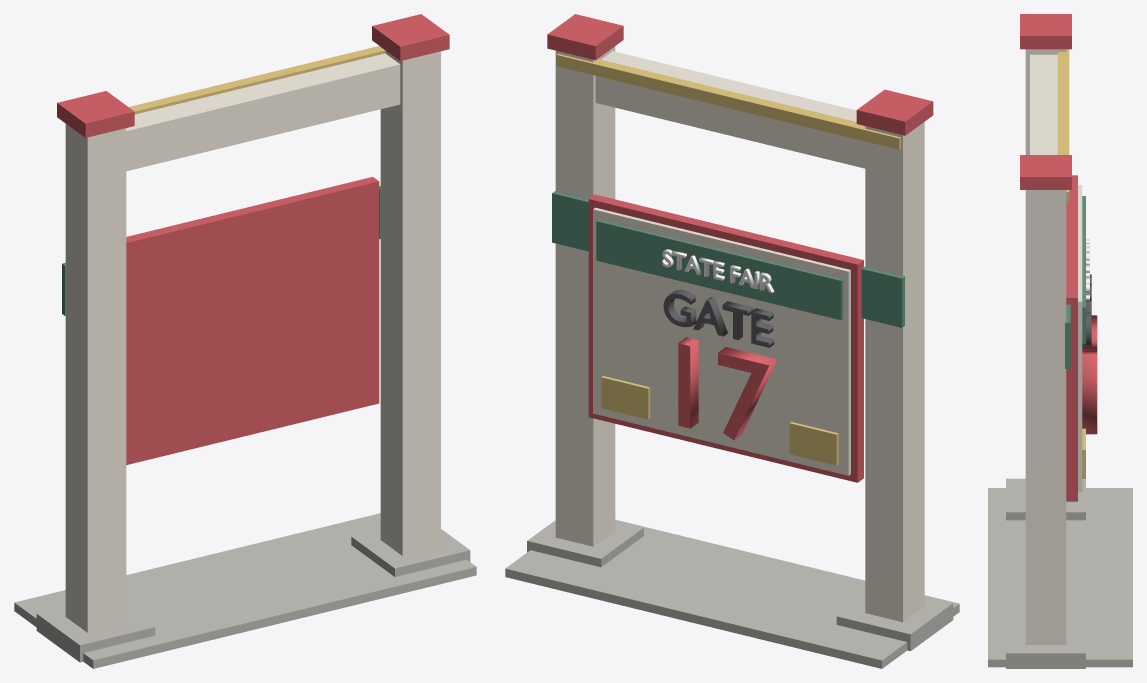
Rendered from state-fair-gate-17.glb.
The picture shows the model from 3 angles, left to right: view 1: azimuth 30°, elevation 25°; view 2: azimuth 150°, elevation 25°; view 3: azimuth 270°, elevation 25°; orthographic projection. The views are drawn at different scales.
Parts seen in each view (by area): view 1: SFG_SignBack, SFG_PostL, SFG_PostR, SFG_Pad, SFG_HeaderBeam, SFG_FootingL, SFG_FootingR, SFG_PostCapL, SFG_PostCapR, SFG_HeaderAccent; view 2: SFG_SignFace, SFG_PostL, SFG_Pad, SFG_PostR, SFG_HeaderBeam, SFG_Ribbon, SFG_SignBack, SFG_HeaderAccent, SFG_GateNumber, SFG_FootingL, SFG_GateLabel, SFG_FootingR (+7 smaller); view 3: SFG_PostR, SFG_Pad, SFG_SignBack, SFG_FootingR, SFG_HeaderBeam, SFG_PostCapL, SFG_PostCapR, SFG_GateNumber, SFG_SignFace, SFG_HeaderAccent, SFG_FootingL, SFG_PostL (+4 smaller).
Part boxes in pixels (x1,y1,x2,y2): SFG_SignBack: (126, 177, 379, 464); SFG_PostL: (65, 124, 126, 632); SFG_PostR: (380, 47, 440, 555); SFG_Pad: (14, 513, 476, 668); SFG_HeaderBeam: (126, 53, 400, 171); SFG_FootingL: (36, 606, 155, 662); SFG_FootingR: (351, 529, 470, 576); SFG_PostCapL: (57, 91, 134, 137); SFG_PostCapR: (372, 14, 449, 60); SFG_HeaderAccent: (129, 46, 385, 114); SFG_SignFace: (593, 207, 850, 475); SFG_PostL: (865, 122, 924, 622); SFG_Pad: (505, 519, 959, 668); SFG_PostR: (555, 46, 615, 546); SFG_HeaderBeam: (595, 51, 865, 168); SFG_Ribbon: (596, 220, 843, 320); SFG_SignBack: (588, 194, 863, 482); SFG_HeaderAccent: (556, 54, 900, 149); SFG_GateNumber: (678, 337, 777, 440); SFG_FootingL: (836, 596, 953, 651); SFG_GateLabel: (663, 289, 774, 347); SFG_FootingR: (527, 520, 643, 567); SFG_PostR: (1025, 190, 1066, 644); SFG_Pad: (988, 488, 1132, 667); SFG_SignBack: (1066, 175, 1077, 501); SFG_FootingR: (1006, 619, 1085, 668); SFG_HeaderBeam: (1030, 54, 1057, 154); SFG_PostCapL: (1020, 14, 1071, 49); SFG_PostCapR: (1020, 155, 1071, 189); SFG_GateNumber: (1082, 315, 1097, 434); SFG_SignFace: (1078, 185, 1082, 491); SFG_HeaderAccent: (1057, 49, 1069, 202); SFG_FootingL: (1006, 478, 1085, 520); SFG_PostL: (1025, 49, 1066, 154).
Size of the model in its own units: 2.85 by 3.7 by 1.
